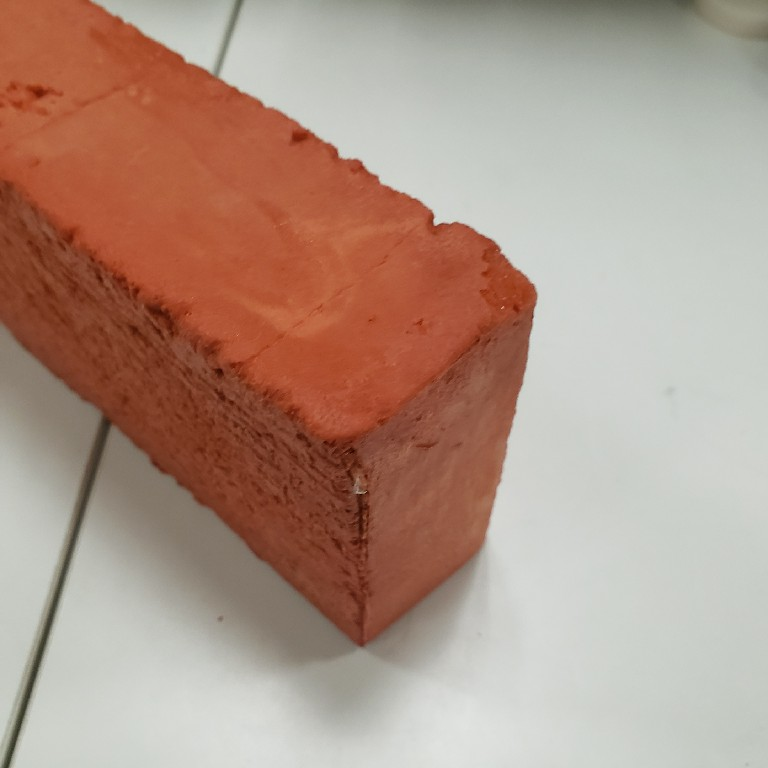brick: (1, 1, 543, 654)
